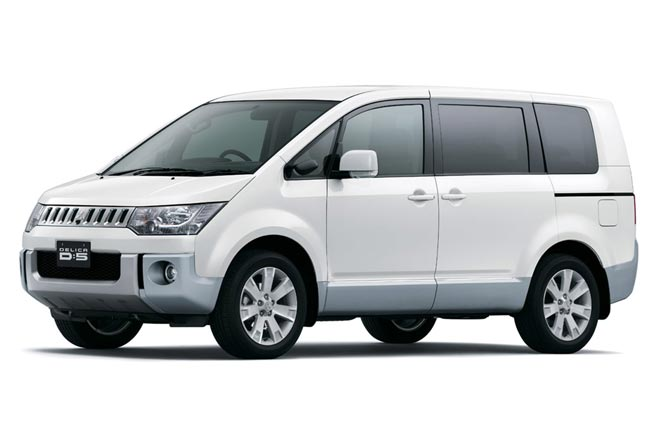van: (17, 82, 641, 359)
